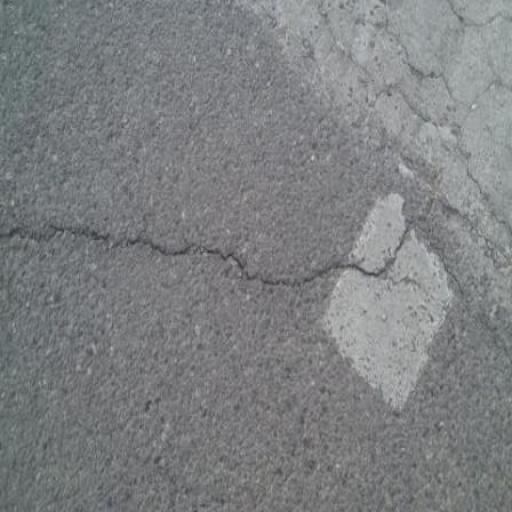spalling: (6, 181, 444, 300)
